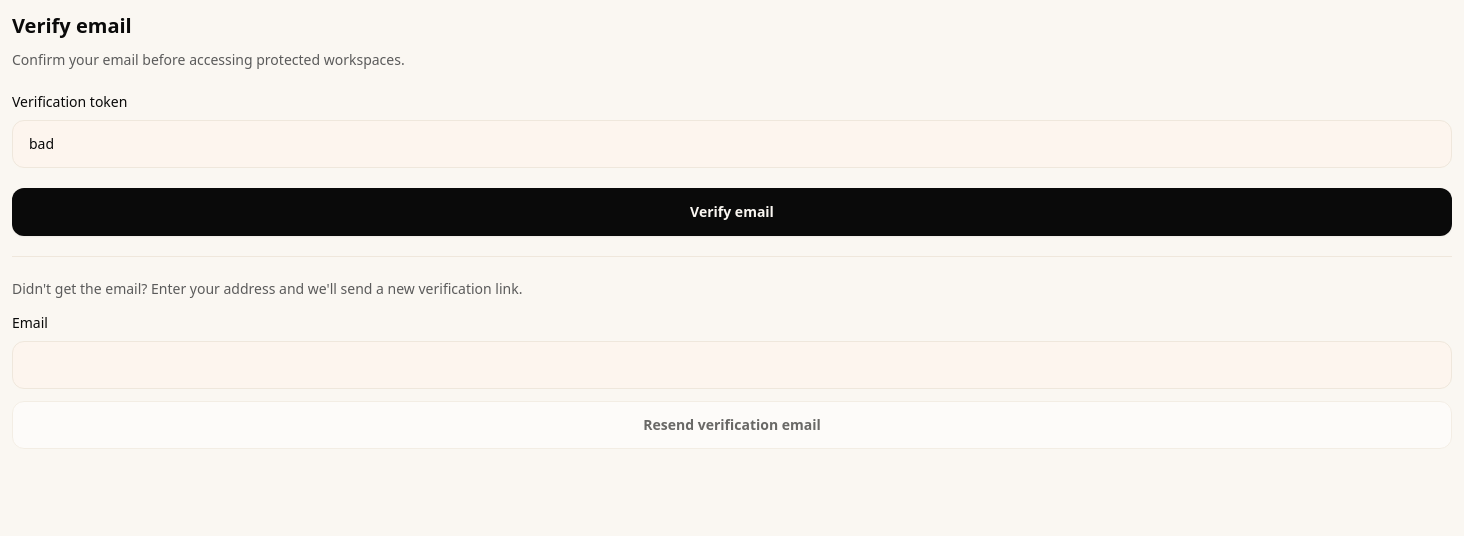
Test case: VerifyEmailForm › surfaces the error detail for an invalid token
Click the button "Verify email". click: (732,212)
box: [12,188,1452,236]
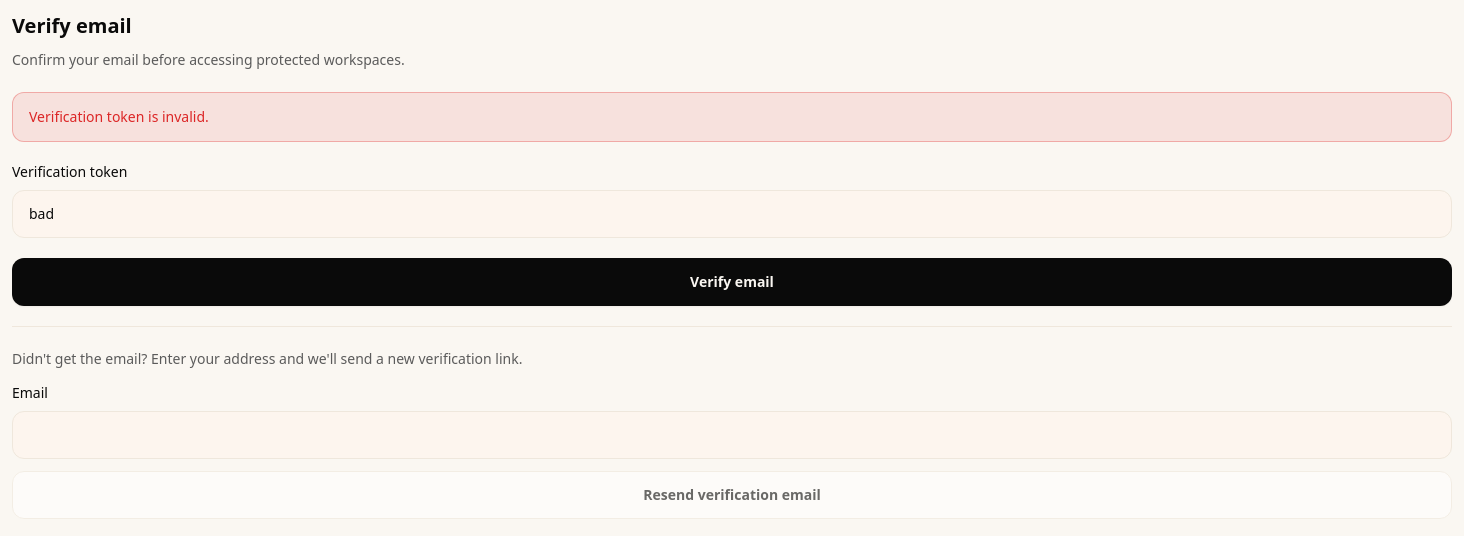
Expected: the text "Verification token is invalid." is shown, [12,92,1452,142]
